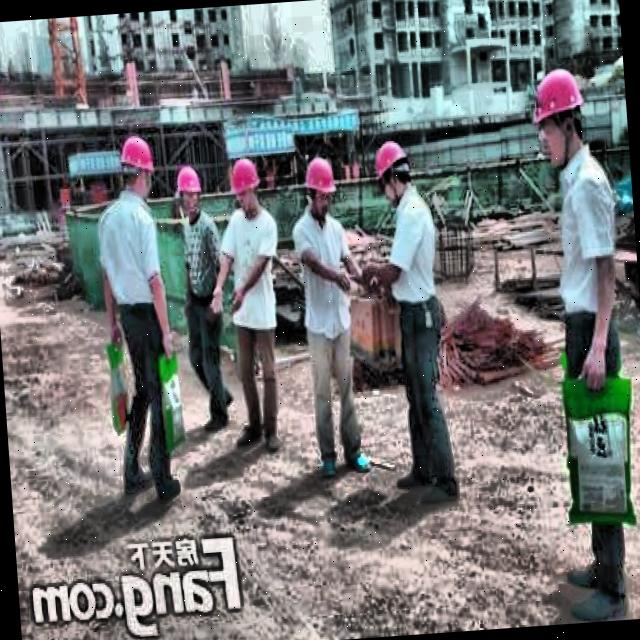helmet: (525, 56, 593, 171), (114, 128, 156, 198), (371, 132, 413, 202), (300, 148, 338, 218), (226, 150, 262, 212), (172, 164, 203, 223)
